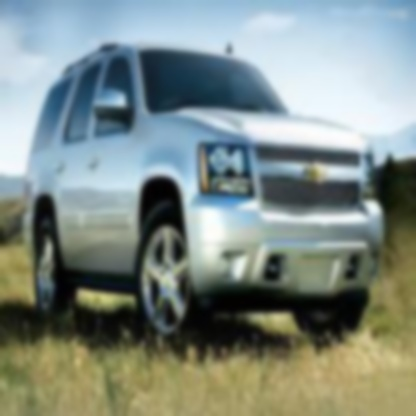Vehicle: (20, 41, 389, 365)
